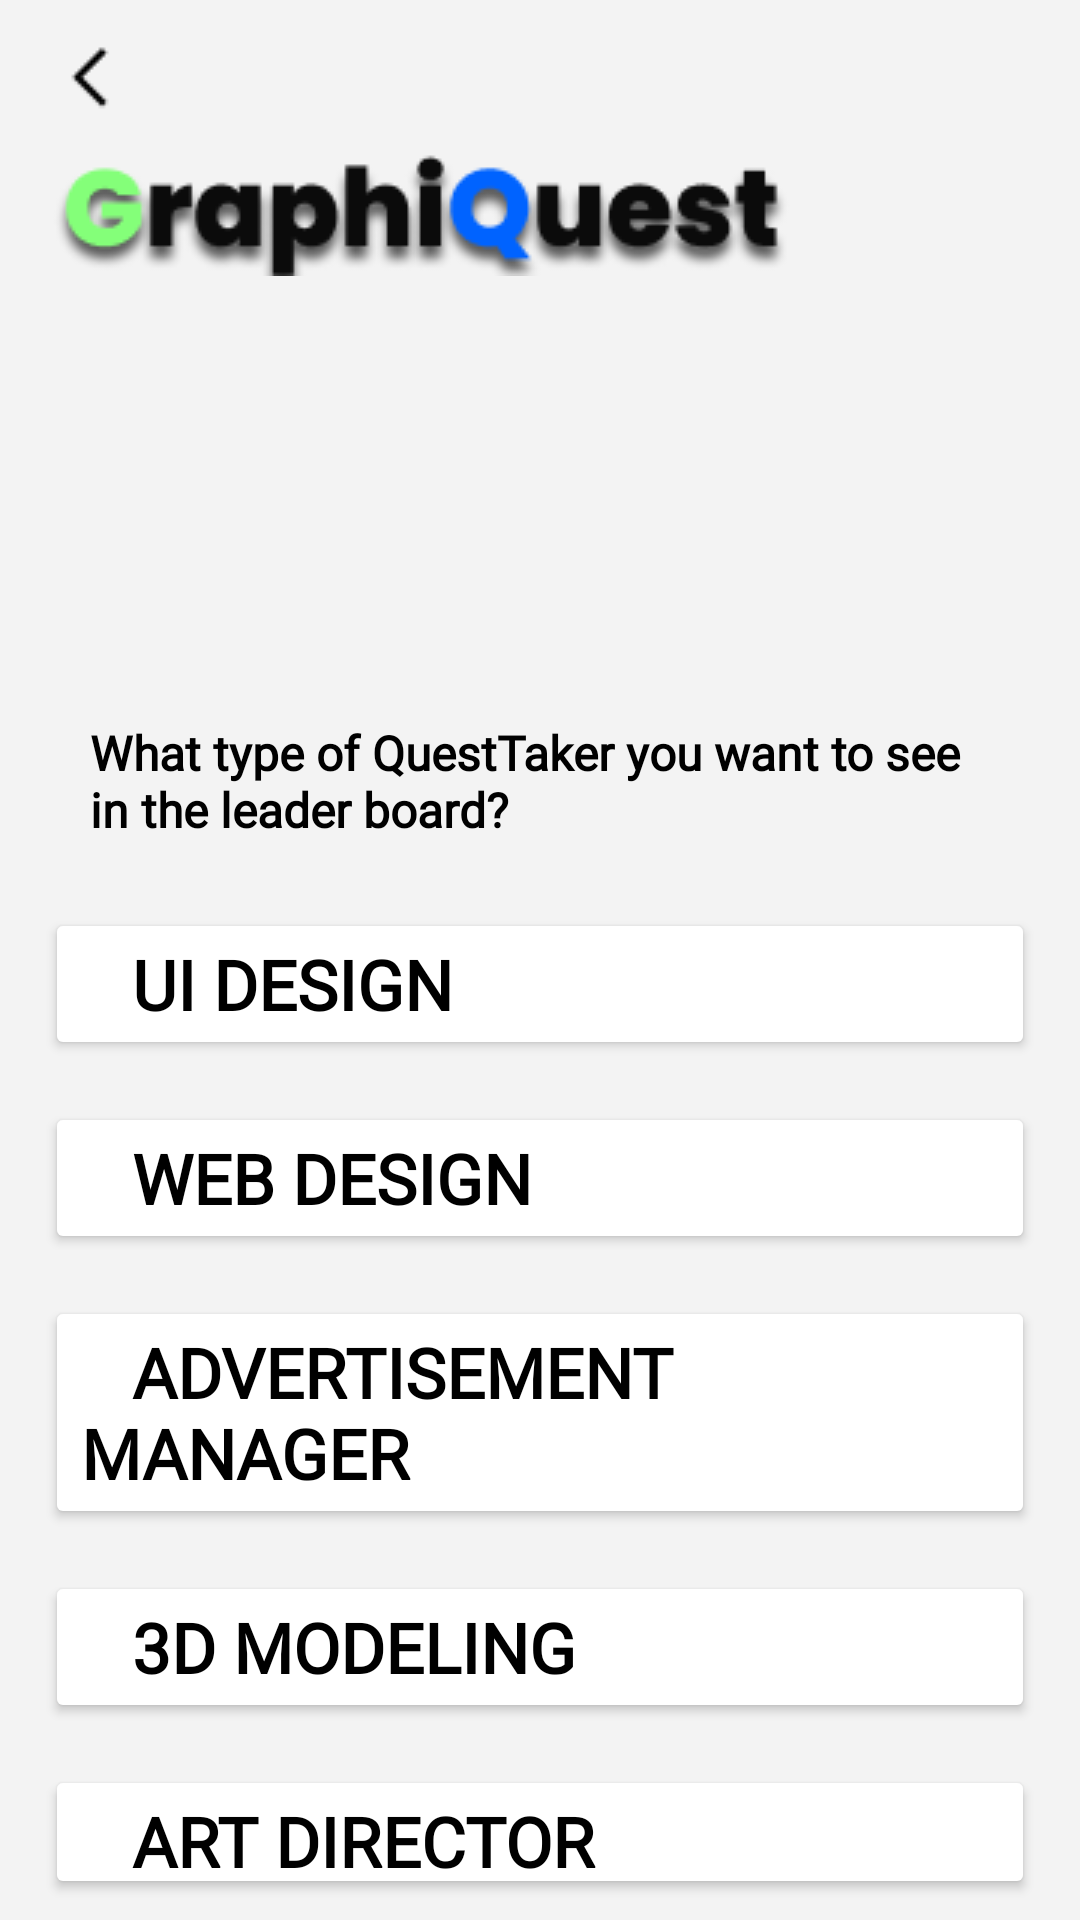

Named icons in this screenshot (1080x1920) and their centers, point (x, y):
arrow left: point (89, 77)
